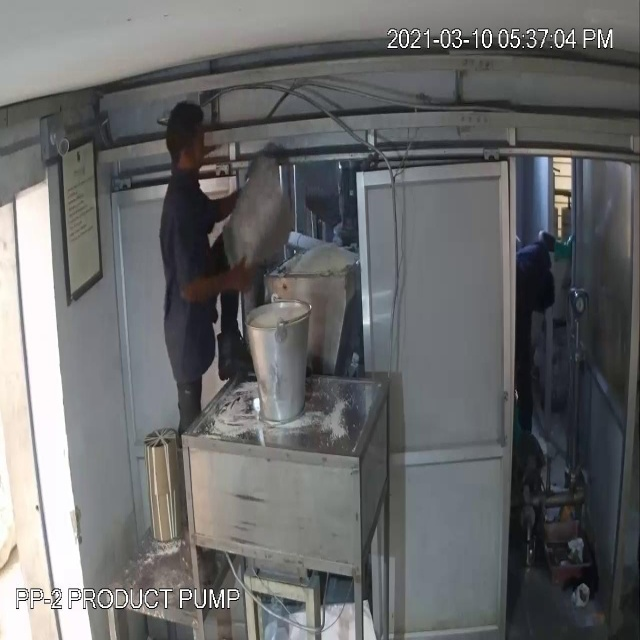Sin_guantes: (175, 248, 269, 312)
